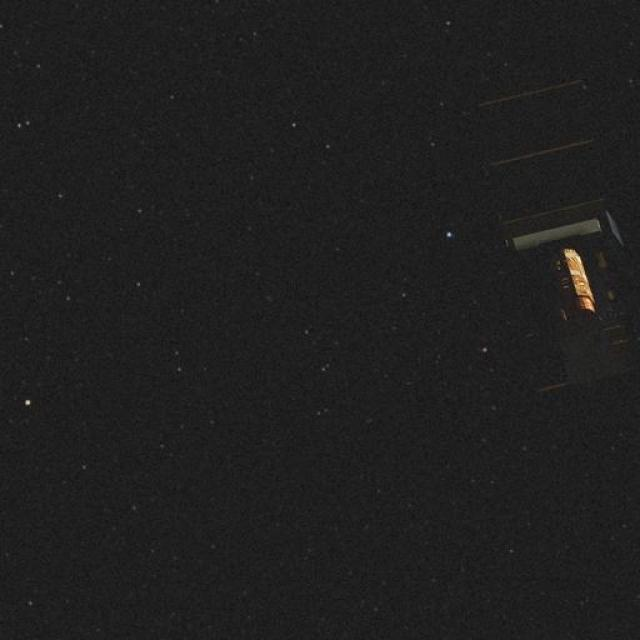soho: (460, 68, 640, 420)
